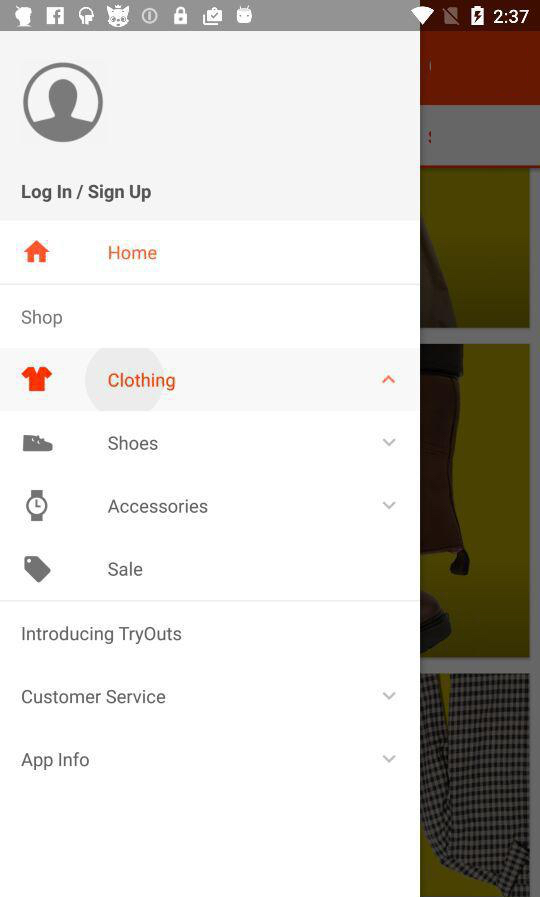Drawer: (1, 32, 420, 897)
Icon: (24, 63, 104, 143), (24, 556, 52, 584), (26, 490, 49, 522), (24, 240, 51, 264), (382, 500, 397, 511), (382, 437, 397, 448), (381, 754, 398, 763), (382, 691, 397, 701), (381, 375, 396, 385)
Image: (22, 367, 54, 392), (23, 435, 54, 452)
Text: (22, 626, 182, 645), (22, 184, 153, 204), (22, 689, 167, 706), (108, 498, 209, 515), (21, 751, 91, 771), (108, 372, 177, 392), (108, 435, 159, 452), (22, 309, 64, 329), (108, 245, 158, 261), (108, 561, 144, 577)
UpperTaskBar: (1, 1, 540, 33)
